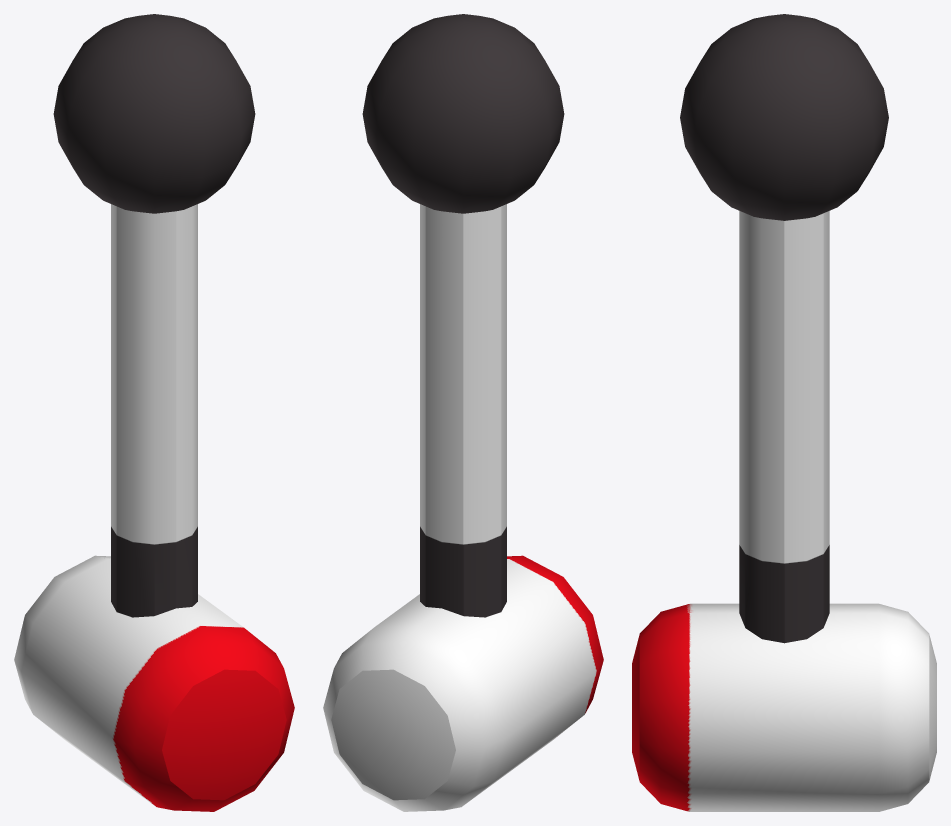
The model's file is Martelao.fbx.
3 renders of one model, left to right at view 1: azimuth 30°, elevation 25°; view 2: azimuth 150°, elevation 25°; view 3: azimuth 270°, elevation 25°, orthographic. The views are drawn at different scales.
Visible parts, largest first — view 1: Cilindro; view 2: Cilindro; view 3: Cilindro.
Boxes of the visible parts, <box> form: Cilindro: <box>14,14,294,811</box>; Cilindro: <box>323,14,603,811</box>; Cilindro: <box>632,14,936,811</box>.
Bounding box in the file's own units: 200 × 823 × 292.
1 material, 1 textured.
